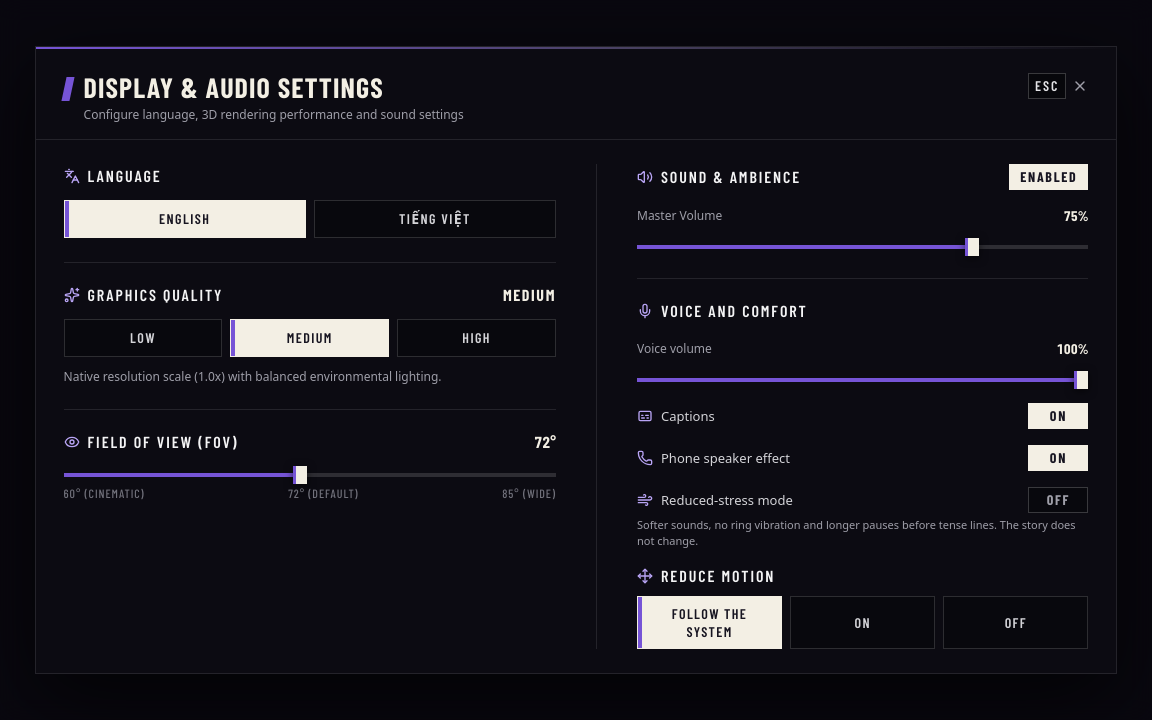
SettingsModal language selector › switches the modal text immediately and leaves other settings unchanged
Expected: the heading "Display & Audio Settings" is shown, [84,70,384,104]
Click the radio button labelled "Tiếng Việt". click: [435, 219]
box: [314,200,556,238]
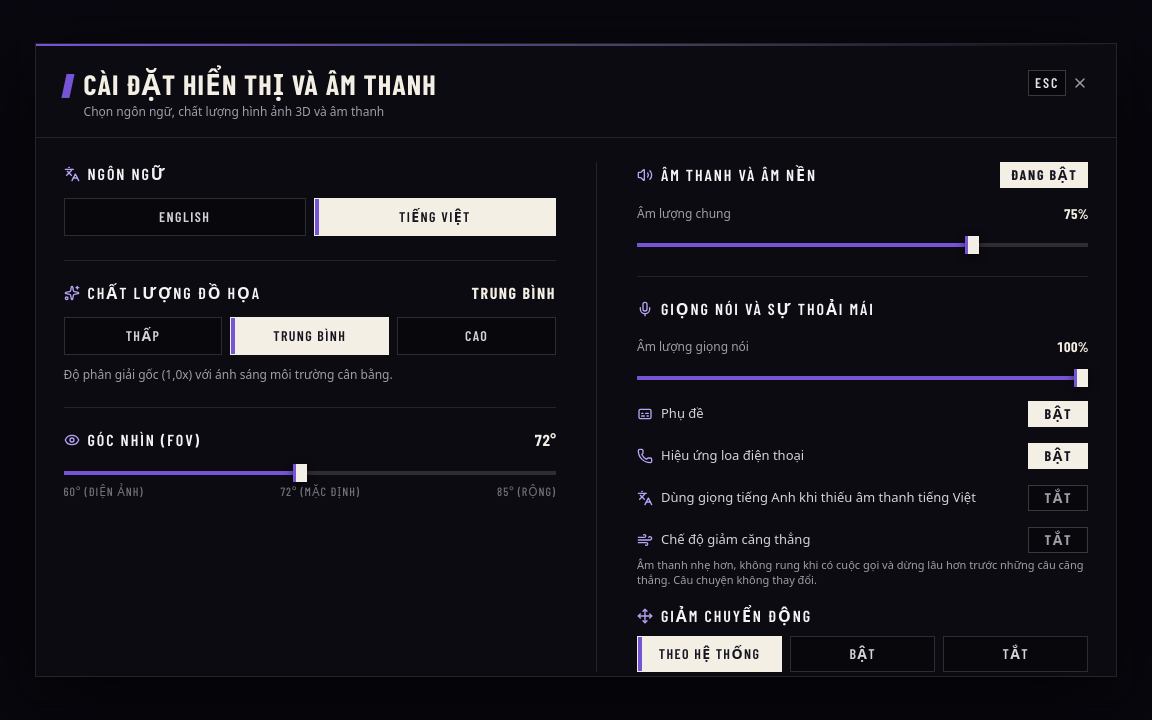
Expected: the element named "Ngôn ngữ" is shown, [64,198,556,236]
Expected: the heading "Cài đặt hiển thị và âm thanh" is shown, [84,70,437,98]
Expected: the text "Chất lượng đồ họa" is shown, [64,281,261,305]
Click the radio button labelled "English". click: [185, 217]
box: [64,198,306,236]
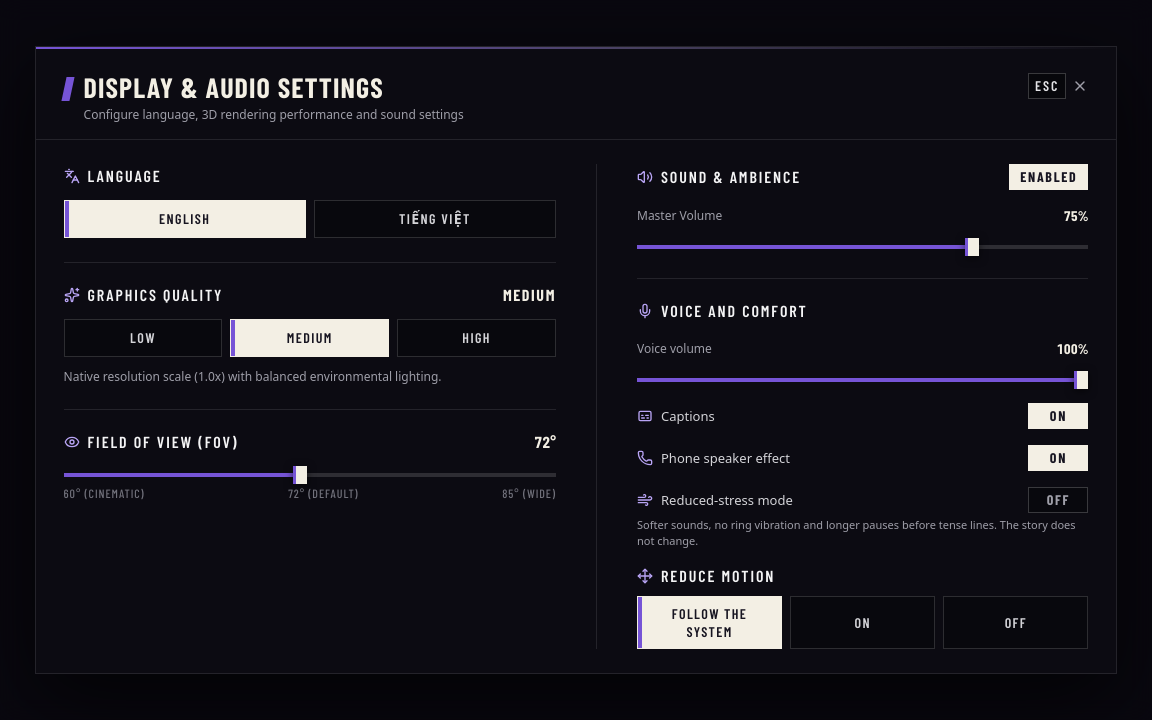
Expected: the heading "Display & Audio Settings" is shown, [84,70,384,104]
